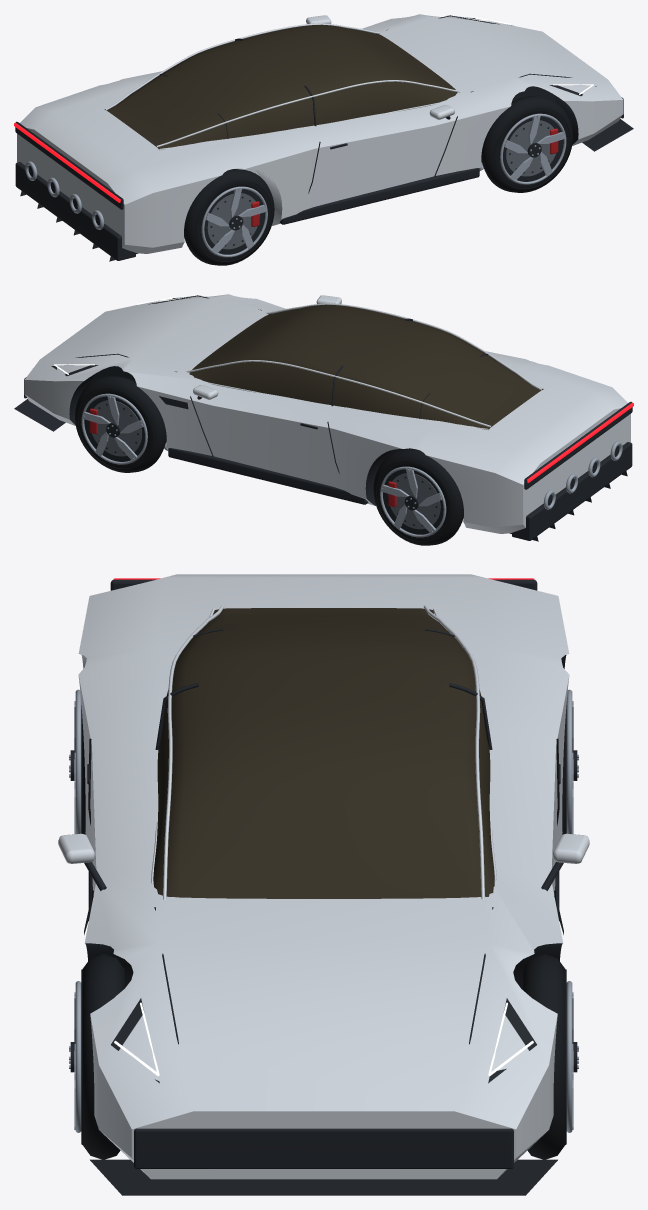
The model's file is roadster.glb.
3 views of the same model, one above another, from view 1: azimuth 30°, elevation 25°; view 2: azimuth 150°, elevation 25°; view 3: azimuth 270°, elevation 25° (orthographic). The views are drawn at different scales.
Parts seen in each view (by area): view 1: Body_Sculpted_Arch_Shell, Canopy_Curved_Panoramic_Glass, Wheel_FL, Wheel_RL, Rear diffuser bridge, Side carbon sill, Rear lamp dark recess, Fine canopy metal border, Fine canopy metal border.001, Low swept front splitter, Continuous rear light ribbon; view 2: Body_Sculpted_Arch_Shell, Canopy_Curved_Panoramic_Glass, Wheel_FR, Wheel_RR, Rear diffuser bridge, Side carbon sill.001, Rear lamp dark recess, Fine canopy metal border.001, Fine canopy metal border, Low swept front splitter, Continuous rear light ribbon; view 3: Body_Sculpted_Arch_Shell, Canopy_Curved_Panoramic_Glass, Slim front dark band, Low swept front splitter, Wheel_FR, Wheel_FL, Wheel_RL, Wheel_RR, Fine canopy metal border, Fine canopy metal border.001, Swept mirror, Swept mirror.001.
Part boxes in pixels (x1,y1,x2,y2): Body_Sculpted_Arch_Shell: (17,14,623,253); Canopy_Curved_Panoramic_Glass: (105,24,457,149); Wheel_FL: (481,96,572,192); Wheel_RL: (184,169,274,265); Rear diffuser bridge: (15,162,135,260); Side carbon sill: (279,168,479,224); Rear lamp dark recess: (15,121,123,209); Fine canopy metal border: (157,80,461,147); Fine canopy metal border.001: (106,23,381,110); Low swept front splitter: (582,119,633,151); Continuous rear light ribbon: (14,122,120,202); Body_Sculpted_Arch_Shell: (24,294,630,533); Canopy_Curved_Panoramic_Glass: (189,304,542,429); Wheel_FR: (75,376,166,472); Wheel_RR: (373,449,463,545); Rear diffuser bridge: (512,442,632,540); Side carbon sill.001: (168,448,368,504); Rear lamp dark recess: (524,401,632,489); Fine canopy metal border.001: (186,360,490,427); Fine canopy metal border: (266,303,541,390); Low swept front splitter: (14,399,65,431); Continuous rear light ribbon: (527,402,633,482); Body_Sculpted_Arch_Shell: (78,574,569,1179); Canopy_Curved_Panoramic_Glass: (153,608,494,898); Slim front dark band: (134,1128,513,1168); Low swept front splitter: (90,1159,557,1195); Wheel_FR: (523,954,578,1159); Wheel_FL: (69,954,124,1159); Wheel_RL: (69,689,85,834); Wheel_RR: (562,689,578,834); Fine canopy metal border: (163,605,224,899); Fine canopy metal border.001: (423,605,484,899); Swept mirror: (58,833,94,863); Swept mirror.001: (553,833,589,863).
Size of the model in its own units: 5.13 by 1.33 by 2.27.
